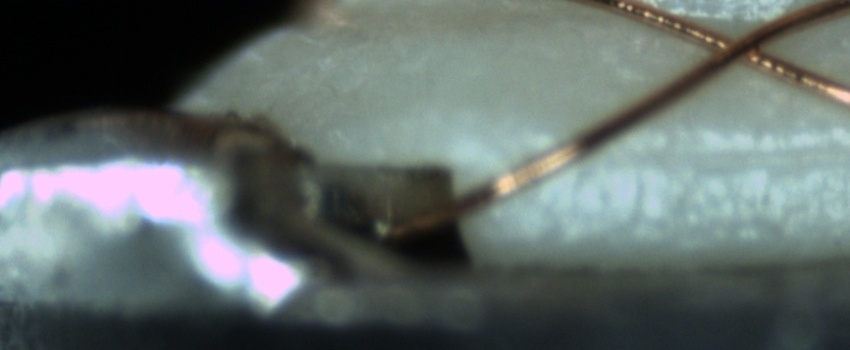CL: (693, 15, 790, 77)
DL: (601, 119, 849, 188)
